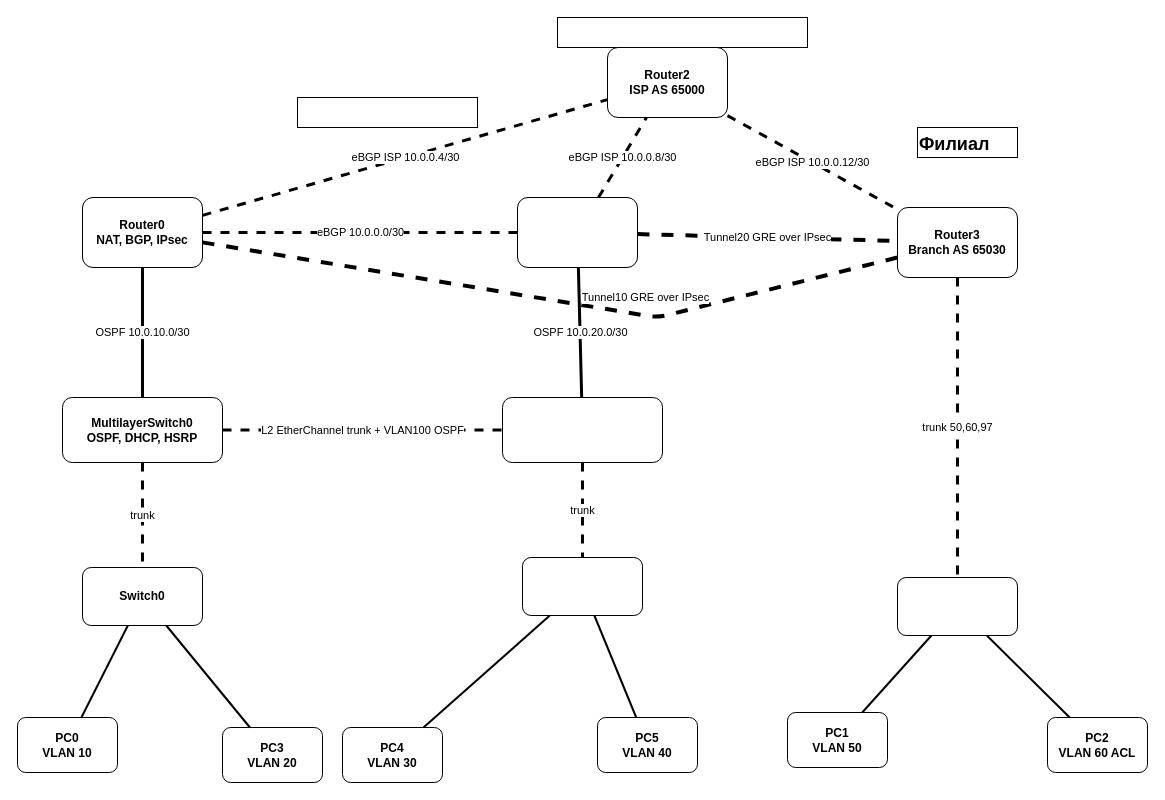
Image size: 1165x800. Some labels were removed from this diagram. Each missing label, with the centre of its shape:
"MultilayerSwitch1 OSPF, DHCP, HSRP" belongs at point 582,429.
"Router1 NAT, BGP, IPsec" belongs at point 577,232.
"Router2: интернет / ISP" belongs at point 682,32.
"Switch1" belongs at point 582,586.
"Switch2" belongs at point 957,606.
"Центральный офис" belongs at point 387,112.
